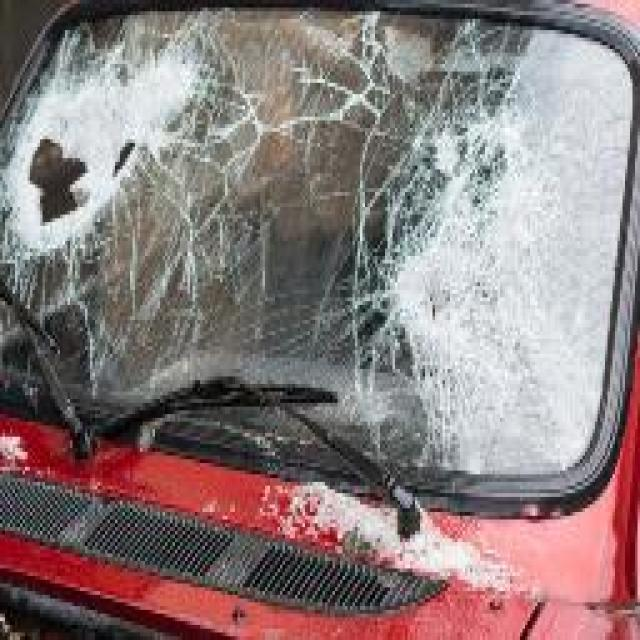Windshield: (2, 8, 588, 474)
